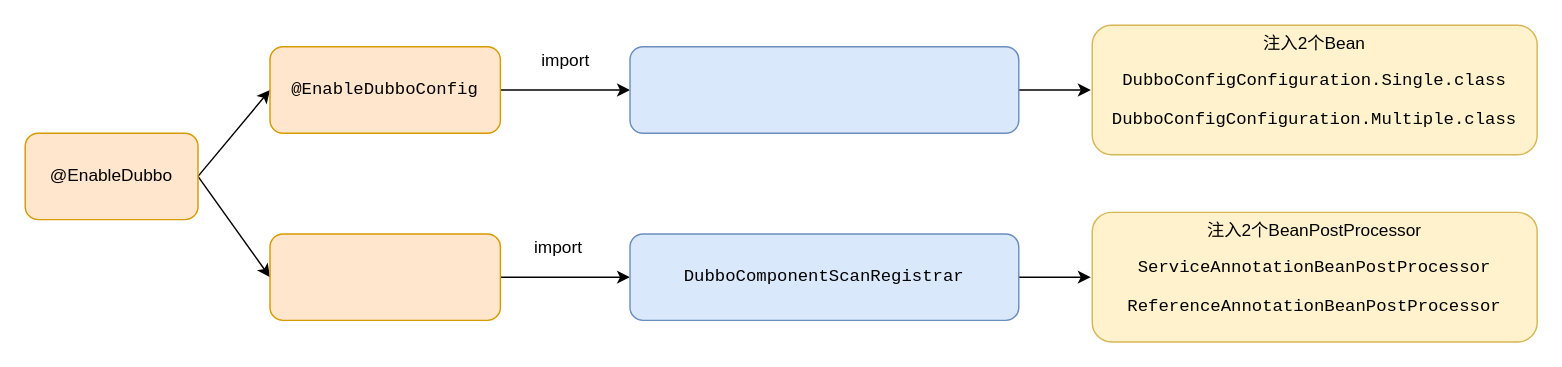
This 1562x367 diagram has some shape labels left out. Here are the shapes that lost their labels. From the top down, the centre of each, then its label:
At point (824, 89): "DubboConfigConfigurationRegistrar".
At point (384, 276): "@DubboComponentScan".
